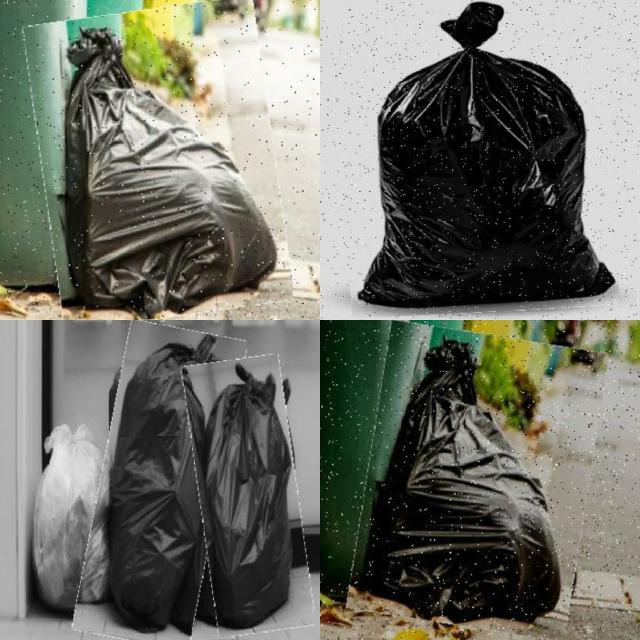Single-layer Plastic: (359, 2, 614, 308), (65, 29, 276, 318), (358, 340, 560, 621), (109, 335, 215, 632), (205, 364, 291, 628), (34, 424, 109, 611)
